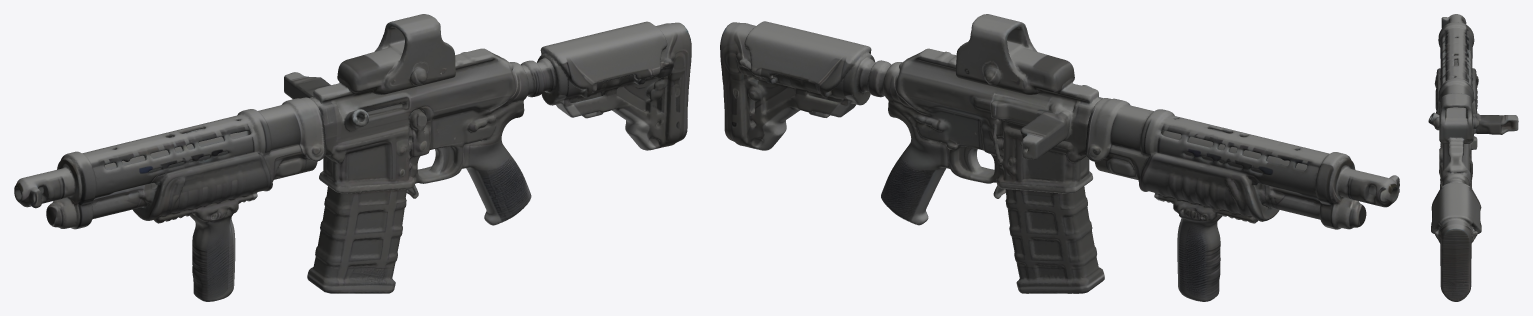
Rendered from Jackal.glb.
3 views of the same model, side by side, from view 1: azimuth 30°, elevation 25°; view 2: azimuth 150°, elevation 25°; view 3: azimuth 270°, elevation 25° (orthographic). The views are drawn at different scales.
Visible parts, largest first — view 1: tripo_node_ebc5256e-6864-4348-bce4-ec86532cb2f6; view 2: tripo_node_ebc5256e-6864-4348-bce4-ec86532cb2f6; view 3: tripo_node_ebc5256e-6864-4348-bce4-ec86532cb2f6.
Part boxes in pixels (x1,y1,x2,y2): tripo_node_ebc5256e-6864-4348-bce4-ec86532cb2f6: [14, 14, 691, 301]; tripo_node_ebc5256e-6864-4348-bce4-ec86532cb2f6: [720, 14, 1399, 301]; tripo_node_ebc5256e-6864-4348-bce4-ec86532cb2f6: [1428, 14, 1518, 301].
Bounding box in the file's own units: 1 × 0.3693 × 0.1777.
Materials: 1 (1 with a texture image).
